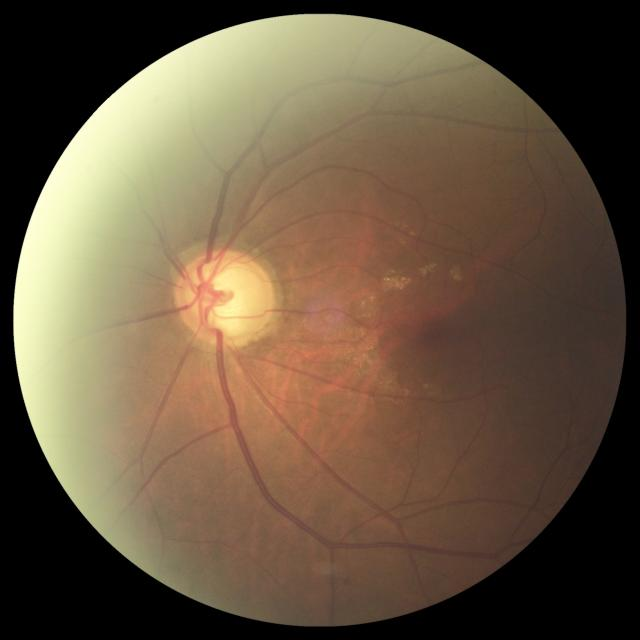OC: (190, 261, 264, 336)
OD: (175, 250, 275, 347)
